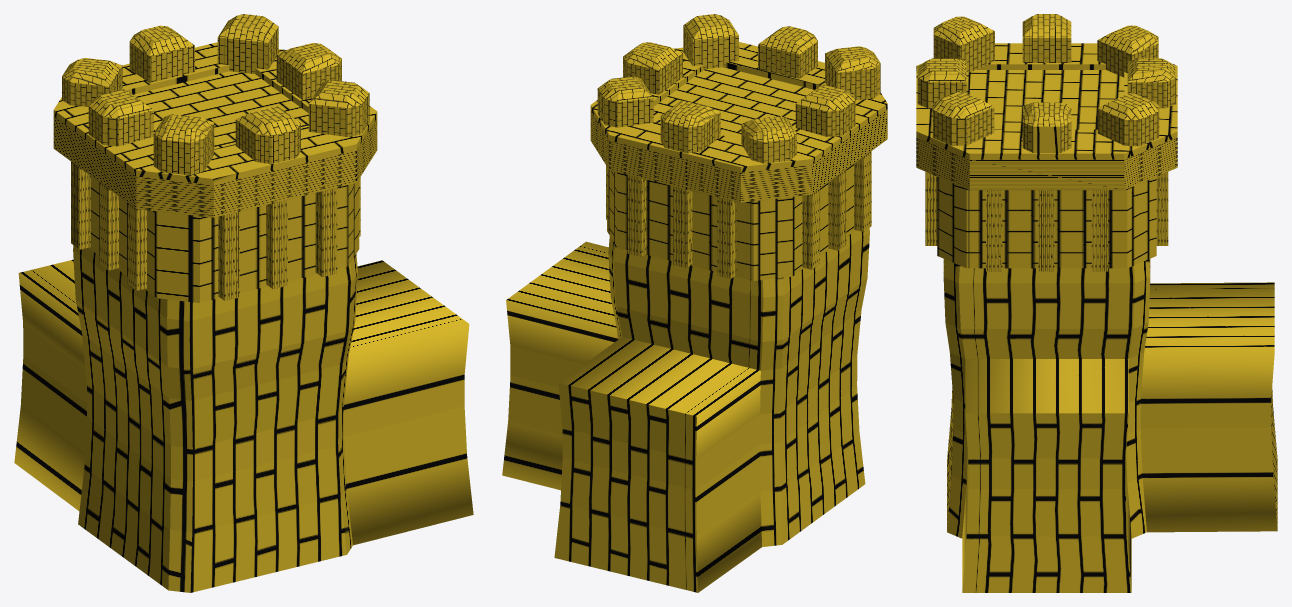
The model's file is Tower2.fbx.
3 views of the same model, side by side, from view 1: azimuth 30°, elevation 25°; view 2: azimuth 150°, elevation 25°; view 3: azimuth 270°, elevation 25° (orthographic). The views are drawn at different scales.
Visible parts, largest first — view 1: Куб; view 2: Куб; view 3: Куб.
Boxes of the visible parts, x1=… form: Куб: x1=14, y1=14, x2=473, y2=592; Куб: x1=502, y1=14, x2=887, y2=592; Куб: x1=916, y1=14, x2=1277, y2=592.
Size of the model in its own units: 150 by 200 by 150.
